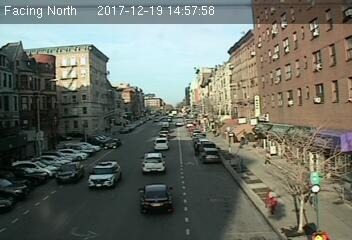car: (137, 183, 174, 213), (55, 160, 84, 181), (140, 152, 165, 173), (199, 148, 220, 161), (153, 137, 171, 151)
police: (87, 161, 122, 190)
